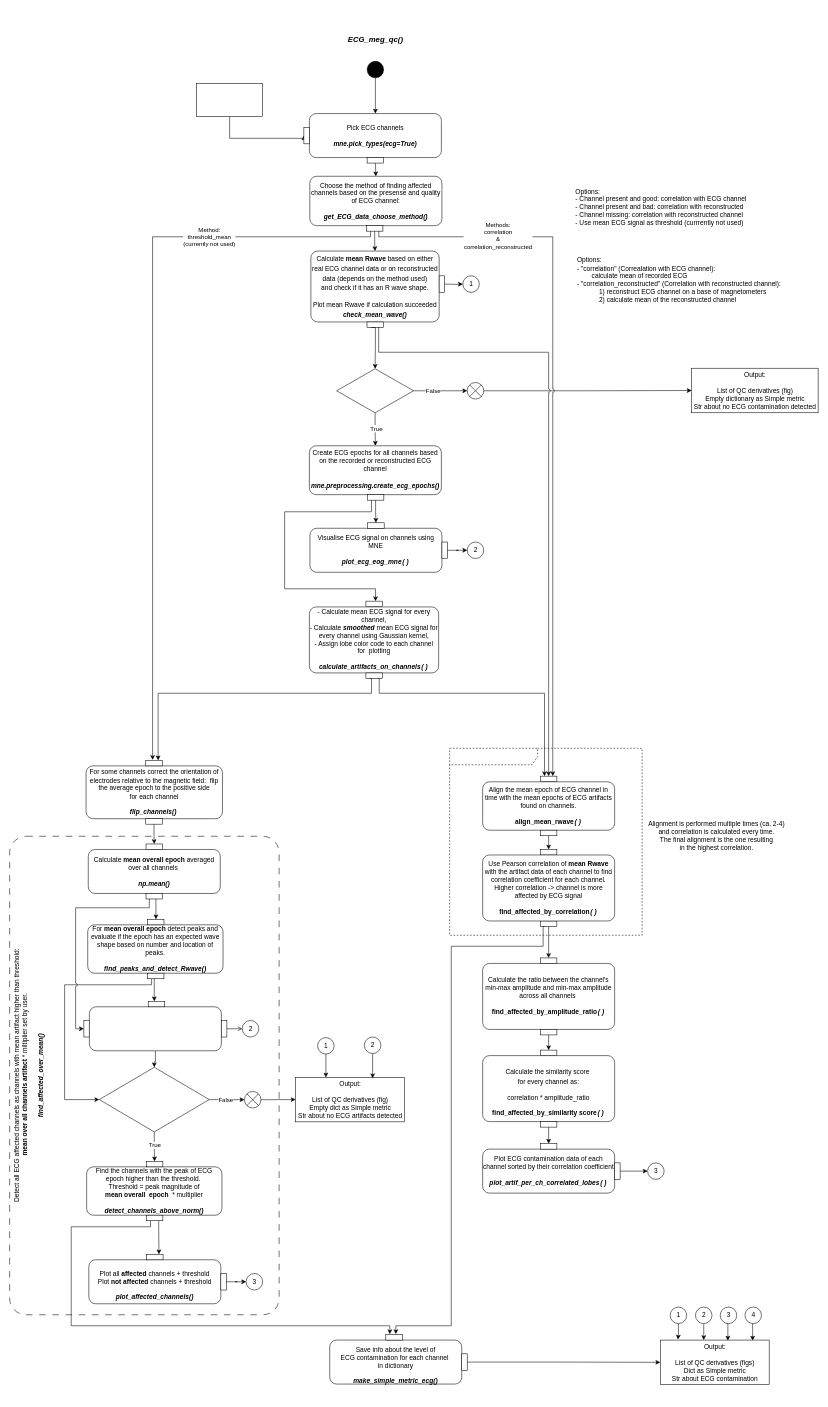
Image size: 828x1407. Some labels were removed from this diagram. Each missing label, with the centre of its shape:
"For all possible ECG alignment variations:" goes at (545,841).
"Input: Raw data, Config parameters" goes at (229,99).
"Mean overall epoch has expected shape (prominent peak at specific time point)?" goes at (154,1099).
"Mean R wave is good?" goes at (375,390).
"Plot mean overall epoch and highlight detected peaks plot_epoch_and_peak()" goes at (155,1028).
